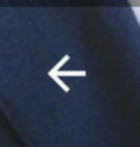ImgButton: (1, 1, 139, 146)
